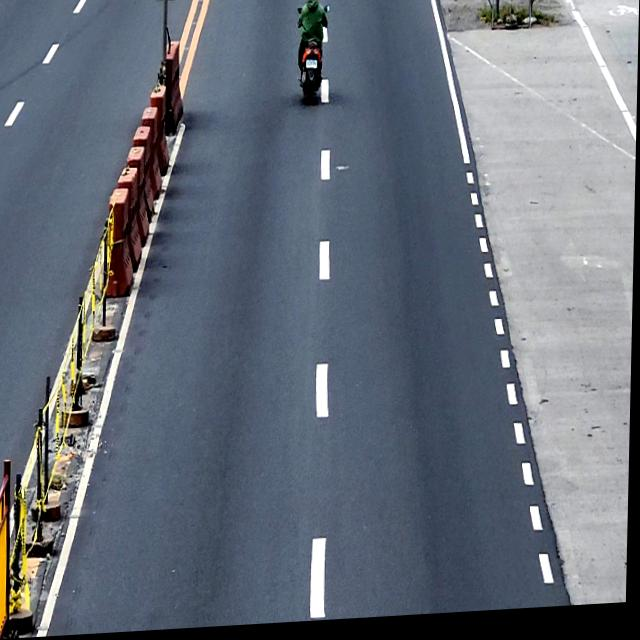License-Plate: (306, 63, 318, 73)
Motorcycle: (295, 8, 330, 109)
